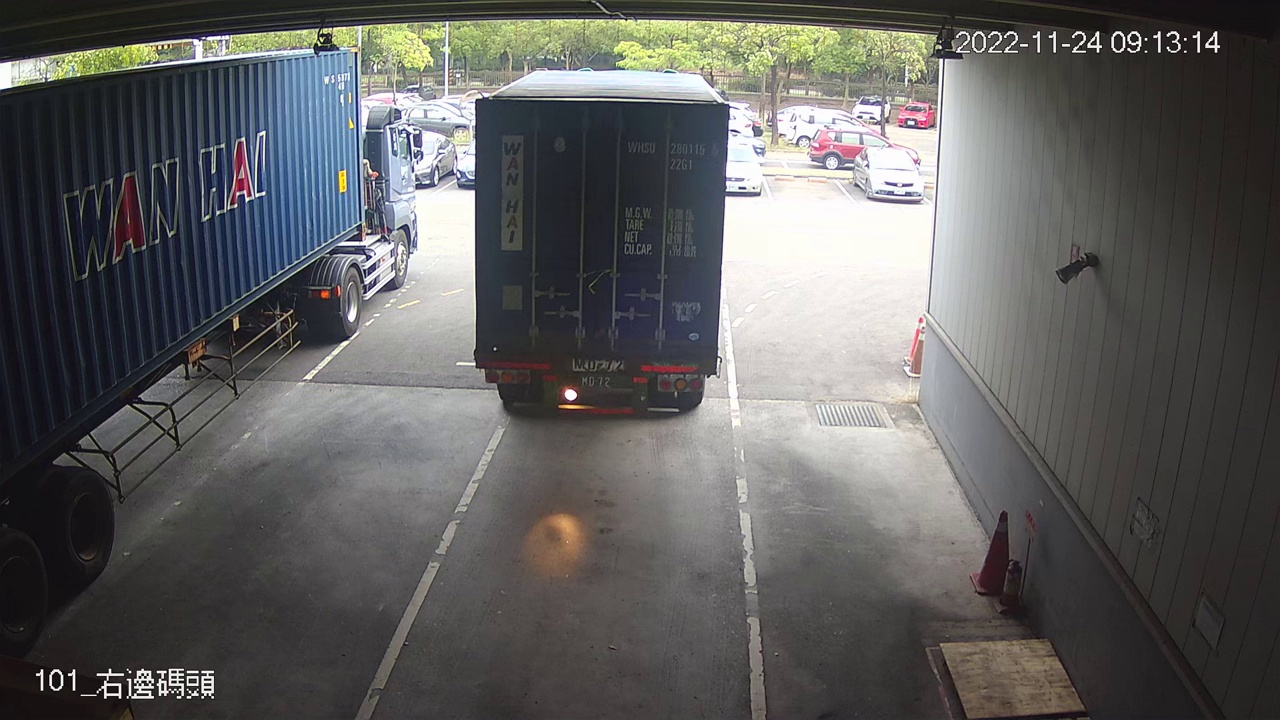container: (623, 134, 724, 174)
